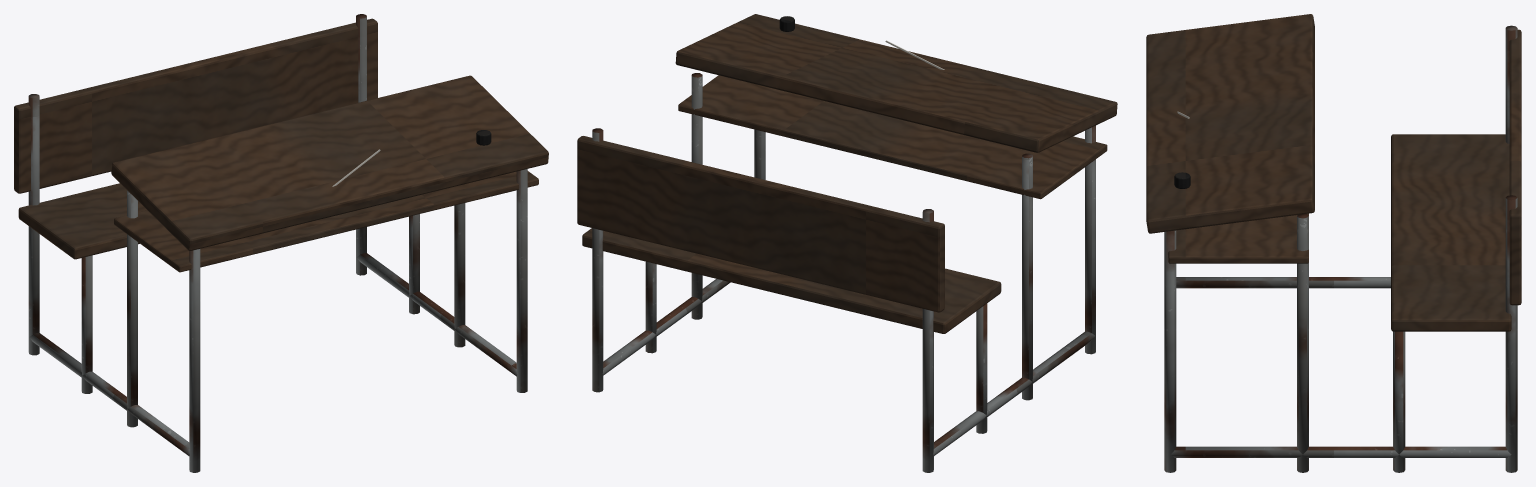
File: S01_school_desk_bench.glb
3 renders of one model, left to right at view 1: azimuth 30°, elevation 25°; view 2: azimuth 150°, elevation 25°; view 3: azimuth 270°, elevation 25°, orthographic. The views are drawn at different scales.
Visible parts, largest first — view 1: S01_school_desk_bench; view 2: S01_school_desk_bench; view 3: S01_school_desk_bench.
Boxes of the visible parts, left/top/right/bottom form: S01_school_desk_bench: left=14, top=14, right=548, bottom=472; S01_school_desk_bench: left=577, top=14, right=1117, bottom=472; S01_school_desk_bench: left=1146, top=14, right=1521, bottom=472.
Size of the model in its own units: 1.2 by 0.8521 by 1.02.
4 materials, 4 textured.
